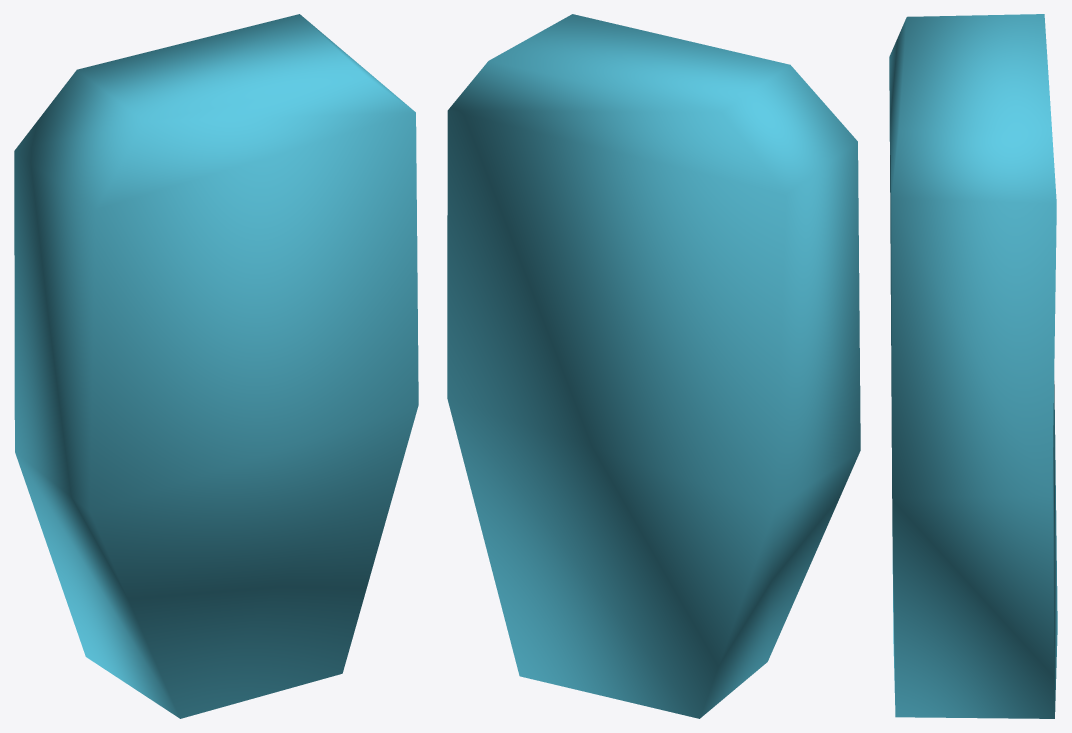
Rendered from arc_05.FBX.
3 renders of one model, left to right at view 1: azimuth 30°, elevation 25°; view 2: azimuth 150°, elevation 25°; view 3: azimuth 270°, elevation 25°, orthographic.
Visible parts, largest first — view 1: arc_05; view 2: arc_05; view 3: arc_05.
Boxes of the visible parts, box(x1,y1,x2,y2) form: arc_05: box(14, 14, 418, 718); arc_05: box(447, 14, 860, 718); arc_05: box(889, 14, 1057, 718).
Bounding box in the file's own units: 10.37 × 18.08 × 4.51.
